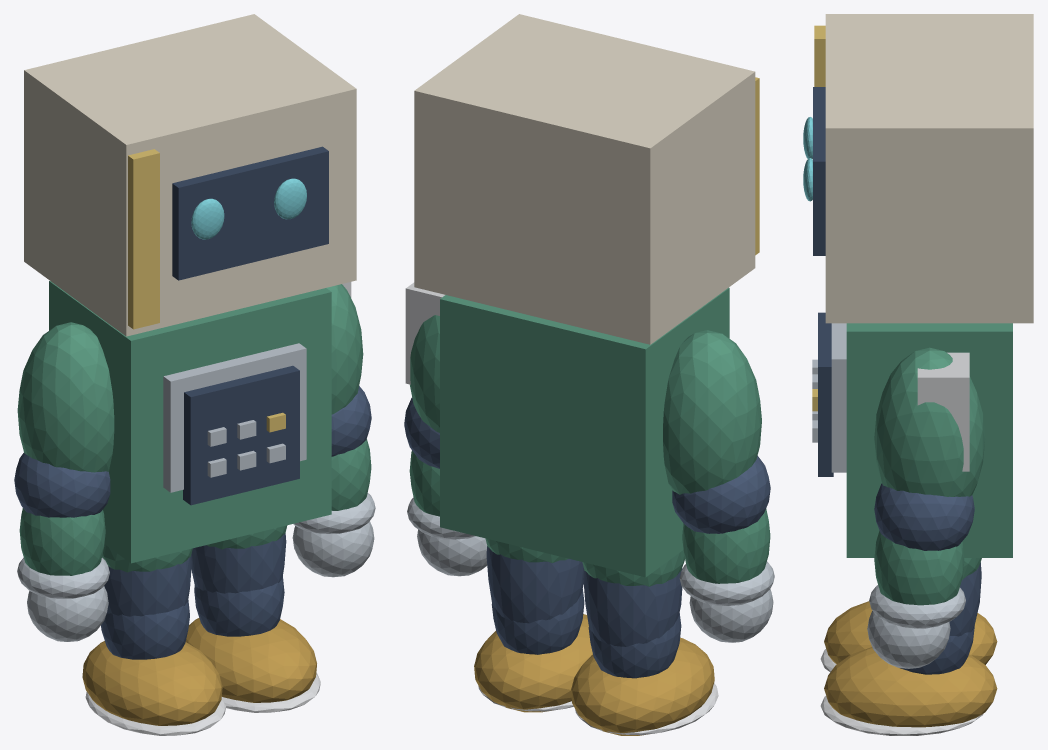
The model's file is avatar_ai_ledger_v3.glb.
The picture shows the model from 3 angles, left to right: view 1: azimuth 30°, elevation 25°; view 2: azimuth 150°, elevation 25°; view 3: azimuth 270°, elevation 25°; orthographic projection. The views are drawn at different scales.
Parts seen in each view (by area): view 1: ledger_head, body_core, ledger_face, L_sleeve_upper, calculator, L_shoe, R_shoe, chest_plate, ledger_spine, L_sleeve_lower, L_elbow, R_leg (+16 smaller); view 2: ledger_head, body_core, L_sleeve_upper, L_shoe, R_shoe, L_leg, R_leg, L_elbow, L_sleeve_lower, L_leg_bottom, R_leg_bottom, R_sleeve_upper (+11 smaller); view 3: ledger_head, body_core, R_sleeve_upper, R_shoe, R_elbow, R_sleeve_lower, R_hand, receipt_roll, L_shoe, chest_plate, R_cuff, calculator (+5 smaller).
Part boxes in pixels (bbox=[...]): ledger_head: bbox=[24, 14, 356, 336]; body_core: bbox=[49, 281, 331, 563]; ledger_face: bbox=[172, 146, 328, 280]; L_sleeve_upper: bbox=[17, 322, 114, 472]; calculator: bbox=[183, 365, 299, 505]; L_shoe: bbox=[82, 641, 222, 725]; R_shoe: bbox=[185, 618, 316, 702]; chest_plate: bbox=[163, 343, 306, 492]; ledger_spine: bbox=[128, 149, 159, 329]; L_sleeve_lower: bbox=[19, 508, 105, 575]; L_elbow: bbox=[14, 453, 110, 517]; R_leg: bbox=[191, 533, 286, 593]; ledger_head: bbox=[414, 14, 755, 344]; body_core: bbox=[440, 287, 729, 577]; L_sleeve_upper: bbox=[663, 330, 761, 494]; L_shoe: bbox=[571, 637, 714, 735]; R_shoe: bbox=[474, 614, 592, 712]; L_leg: bbox=[583, 568, 682, 646]; R_leg: bbox=[486, 546, 583, 623]; L_elbow: bbox=[672, 455, 770, 533]; L_sleeve_lower: bbox=[682, 508, 770, 583]; L_leg_bottom: bbox=[588, 613, 681, 678]; R_leg_bottom: bbox=[491, 589, 584, 654]; R_sleeve_upper: bbox=[410, 315, 439, 432]; ledger_head: bbox=[825, 14, 1033, 323]; body_core: bbox=[846, 323, 1012, 557]; R_sleeve_upper: bbox=[874, 347, 985, 496]; R_shoe: bbox=[824, 647, 997, 727]; R_elbow: bbox=[874, 483, 974, 550]; R_sleeve_lower: bbox=[874, 530, 964, 605]; R_hand: bbox=[867, 611, 950, 668]; receipt_roll: bbox=[917, 352, 969, 471]; L_shoe: bbox=[824, 601, 997, 664]; chest_plate: bbox=[831, 323, 846, 472]; R_cuff: bbox=[869, 585, 965, 628]; calculator: bbox=[818, 312, 833, 476].
Size of the model in its own units: 1.17 by 2.01 by 0.665.
